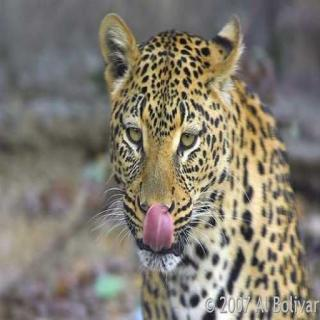Leopard: (63, 19, 320, 320)
